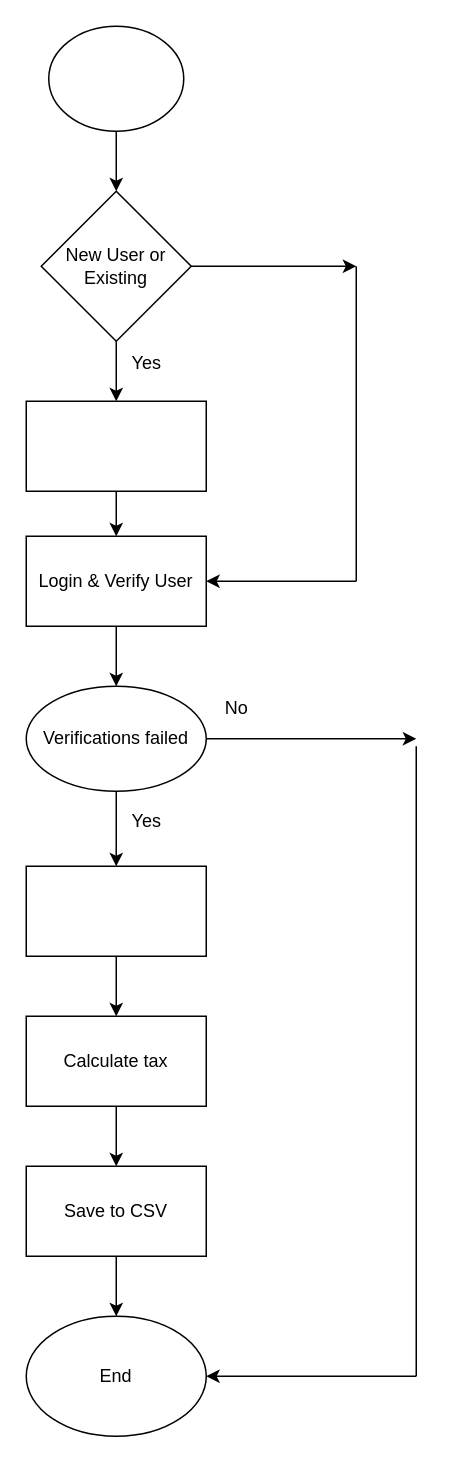
The diagram is 455 pixels wide and 1463 high, and some of its shapes have lost their labels. The shapes that lost their labels are listed below. From the top down, each one's centre as x and y in pixels, then its label:
[115,78]: Start
[115,445]: Register User
[115,910]: Input Income & Tax Relief
